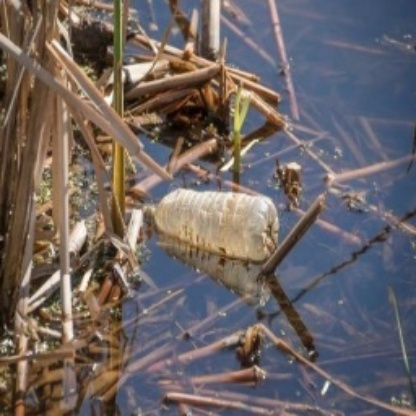bottle: (142, 186, 279, 265)
